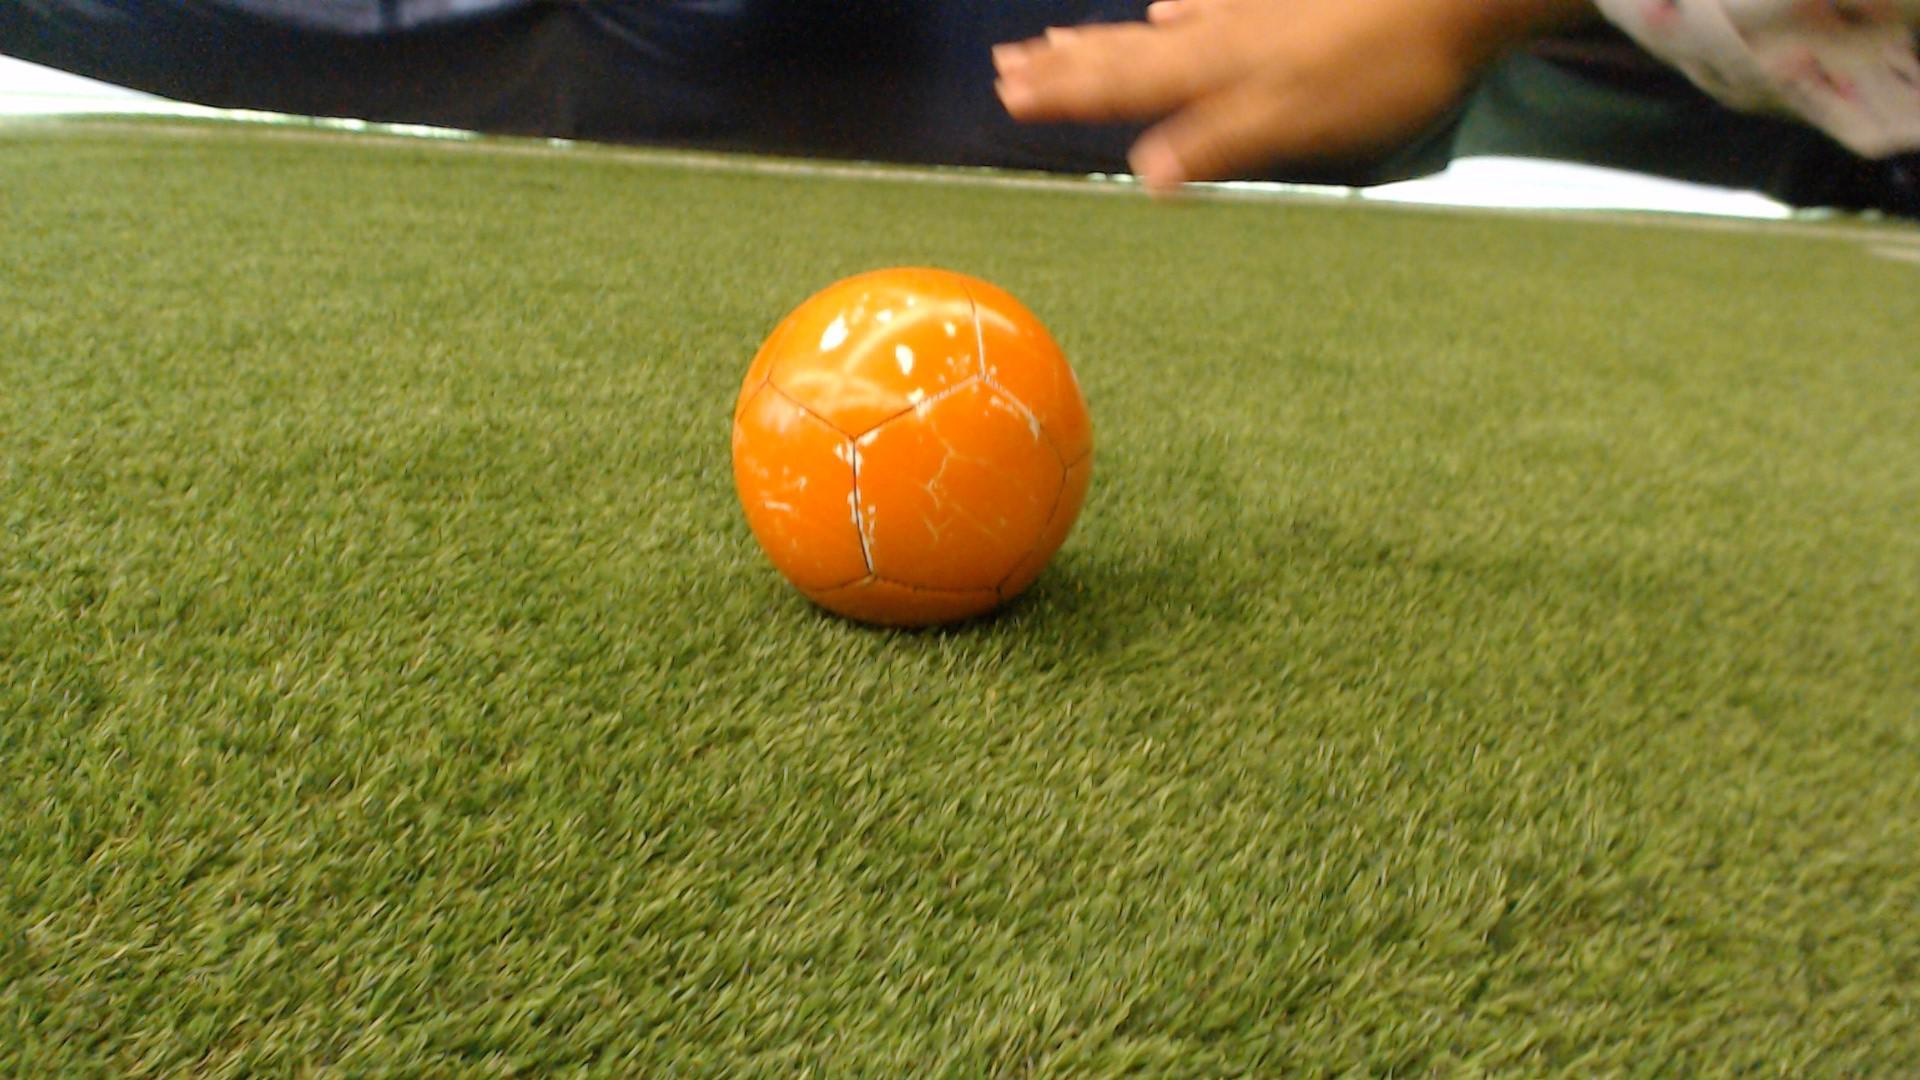bola: (695, 232, 1122, 647)
